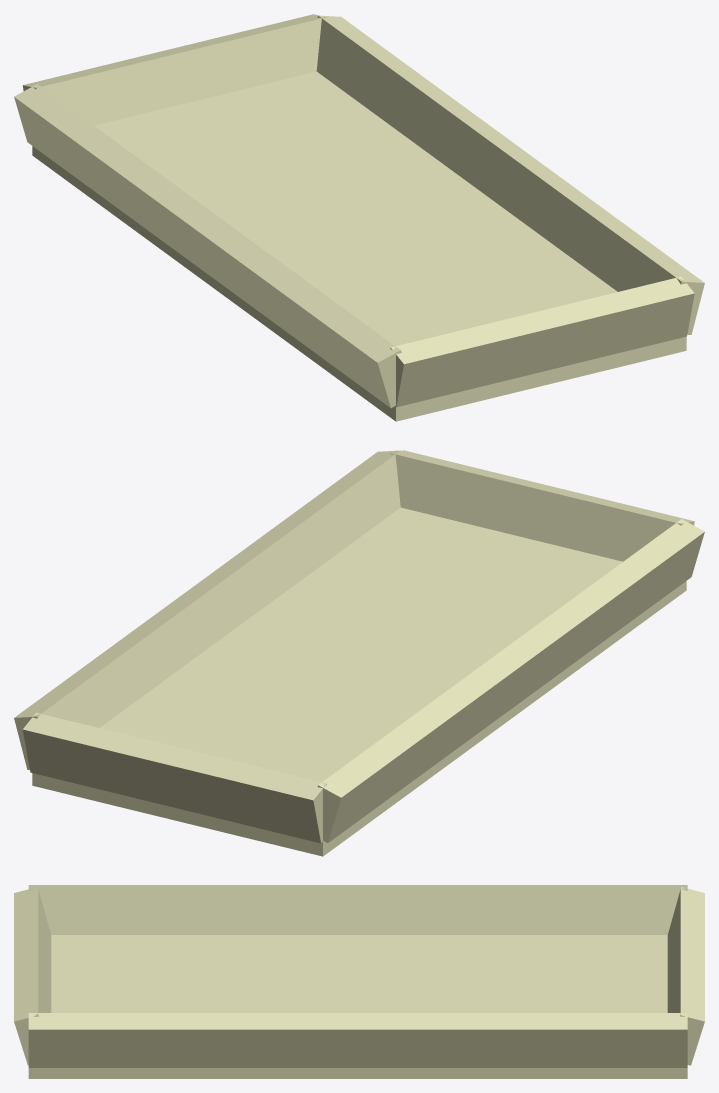
The model's file is Tray.fbx.
3 views of the same model, one above another, from view 1: azimuth 30°, elevation 25°; view 2: azimuth 150°, elevation 25°; view 3: azimuth 270°, elevation 25° (orthographic). The views are drawn at different scales.
Visible parts, largest first — view 1: Cube, Cube.002, Cube.001, Cube.003, Cube.004; view 2: Cube, Cube.002, Cube.001, Cube.004, Cube.003; view 3: Cube, Cube.002, Cube.001, Cube.004, Cube.003.
Boxes of the visible parts, x1=… form: Cube: x1=32, y1=71, x2=686, y2=421; Cube.002: x1=316, y1=15, x2=704, y2=334; Cube.001: x1=14, y1=84, x2=401, y2=407; Cube.003: x1=390, y1=276, x2=694, y2=407; Cube.004: x1=22, y1=14, x2=326, y2=125; Cube: x1=32, y1=507, x2=686, y2=856; Cube.002: x1=14, y1=450, x2=401, y2=769; Cube.001: x1=317, y1=519, x2=704, y2=842; Cube.004: x1=22, y1=712, x2=326, y2=843; Cube.003: x1=390, y1=450, x2=694, y2=561; Cube: x1=28, y1=935, x2=687, y2=1078; Cube.002: x1=28, y1=1013, x2=687, y2=1067; Cube.001: x1=28, y1=885, x2=687, y2=934; Cube.004: x1=667, y1=887, x2=704, y2=1065; Cube.003: x1=14, y1=887, x2=51, y2=1065.
Size of the model in its own units: 67.56 by 13.86 by 136.
